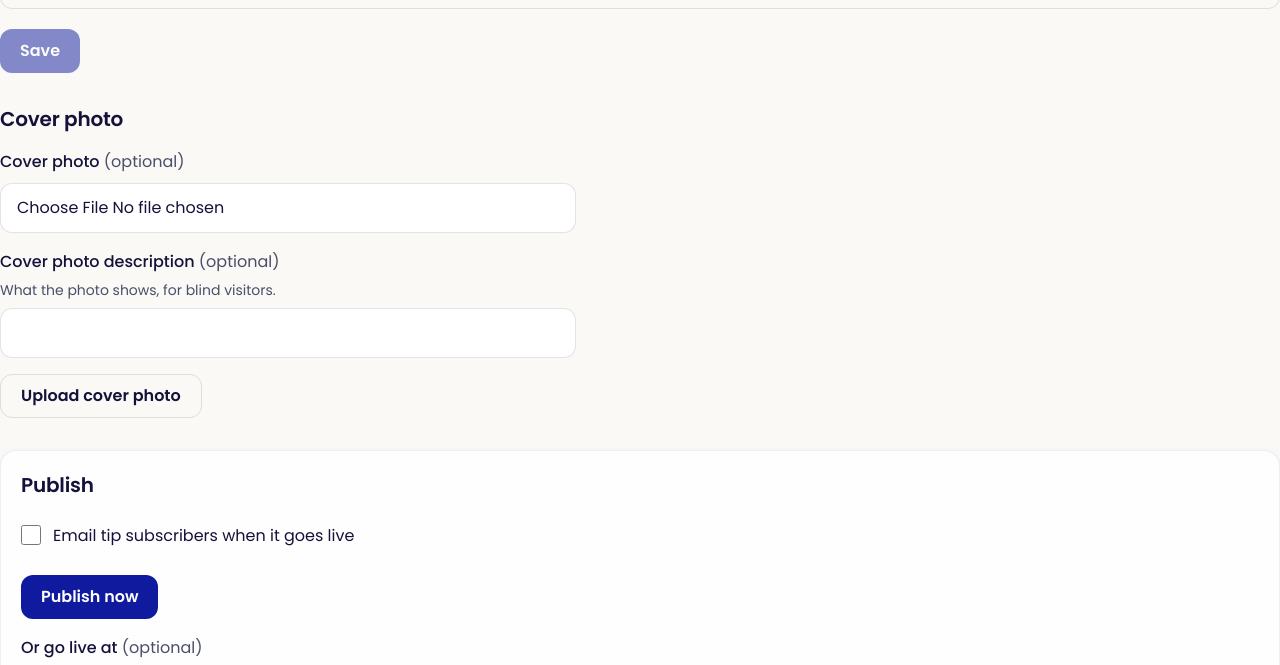
it: ArticleEditor › publishes now and can email tip subscribers
(page scrolled)
What coordinates should you click on to do the following:
click the checkbox labelled "Email tip subscribers when it goes live"
I would click on:
 (31, 534)
Its box is [21, 524, 41, 544].
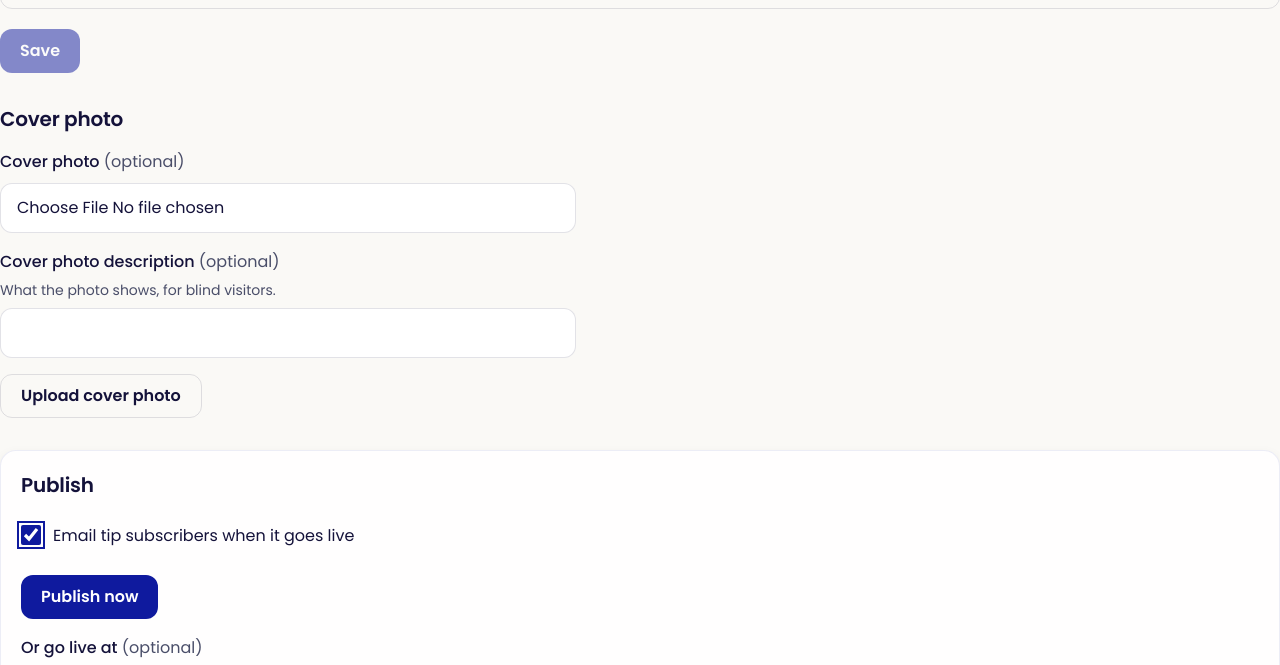
What coordinates should you click on to do the following:
click the button "Publish now"
I would click on:
 (90, 596)
Its box is [21, 574, 158, 618].
(page scrolled)
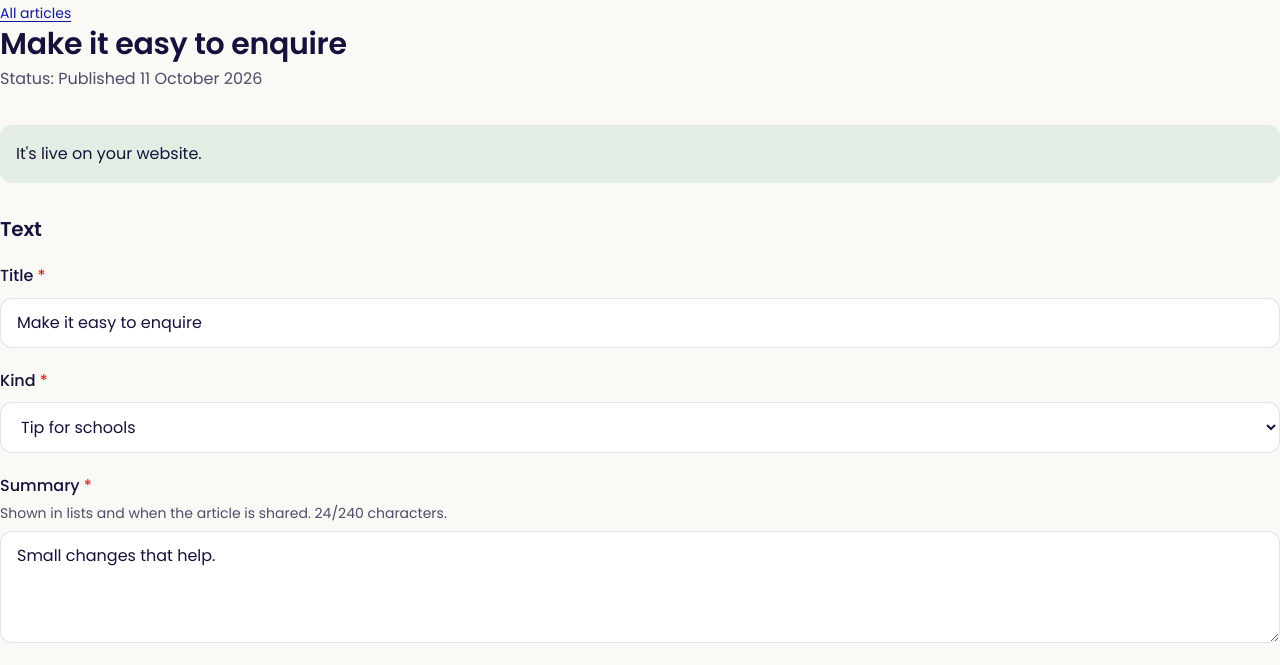
Now the text "Published 11 October 2026" is shown, box [58, 67, 262, 90]
